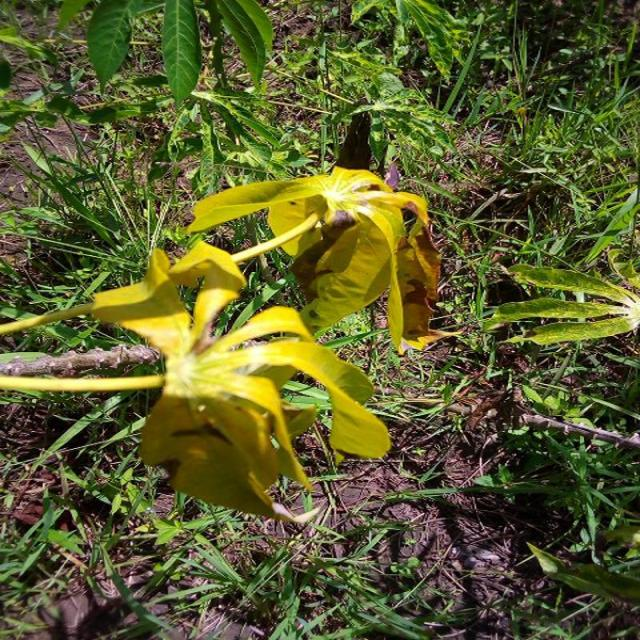cassava leaf: (1, 238, 391, 524), (183, 163, 444, 353)
